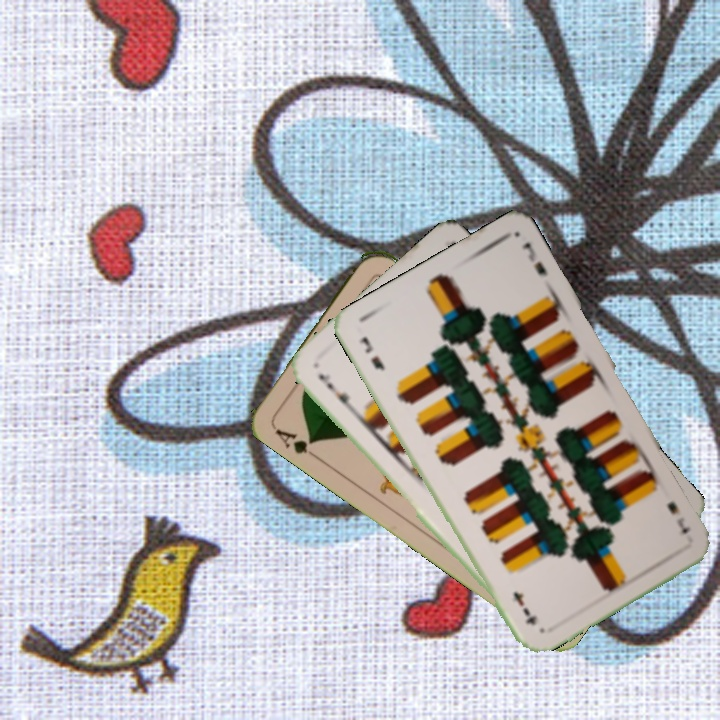E7: (314, 369, 353, 414), (355, 332, 388, 374), (663, 498, 693, 536)
GA: (271, 423, 322, 462)
